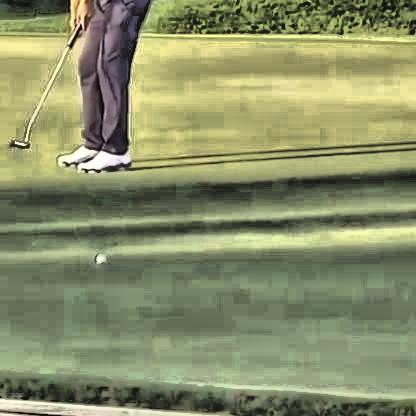golfball: (94, 250, 104, 261)
